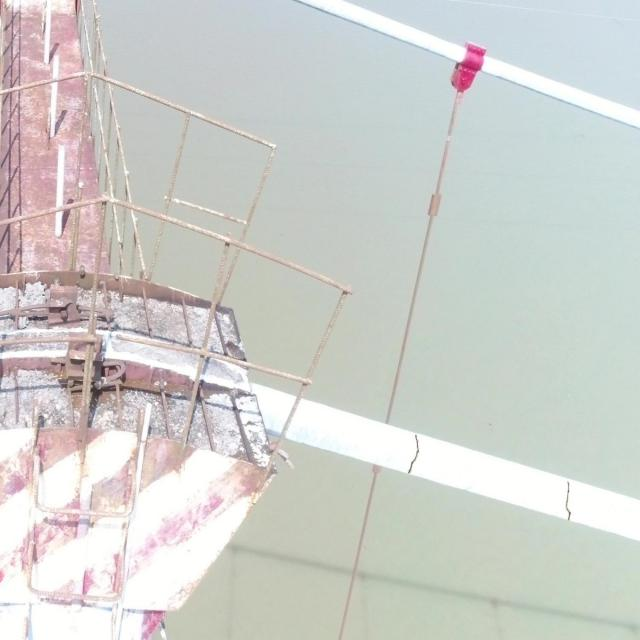crack: (407, 434, 421, 474), (565, 482, 572, 520)
